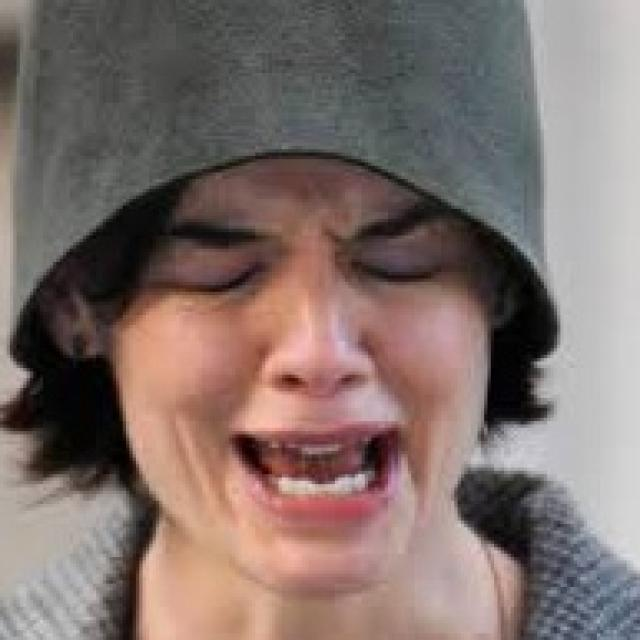Depress: (106, 151, 492, 602)
